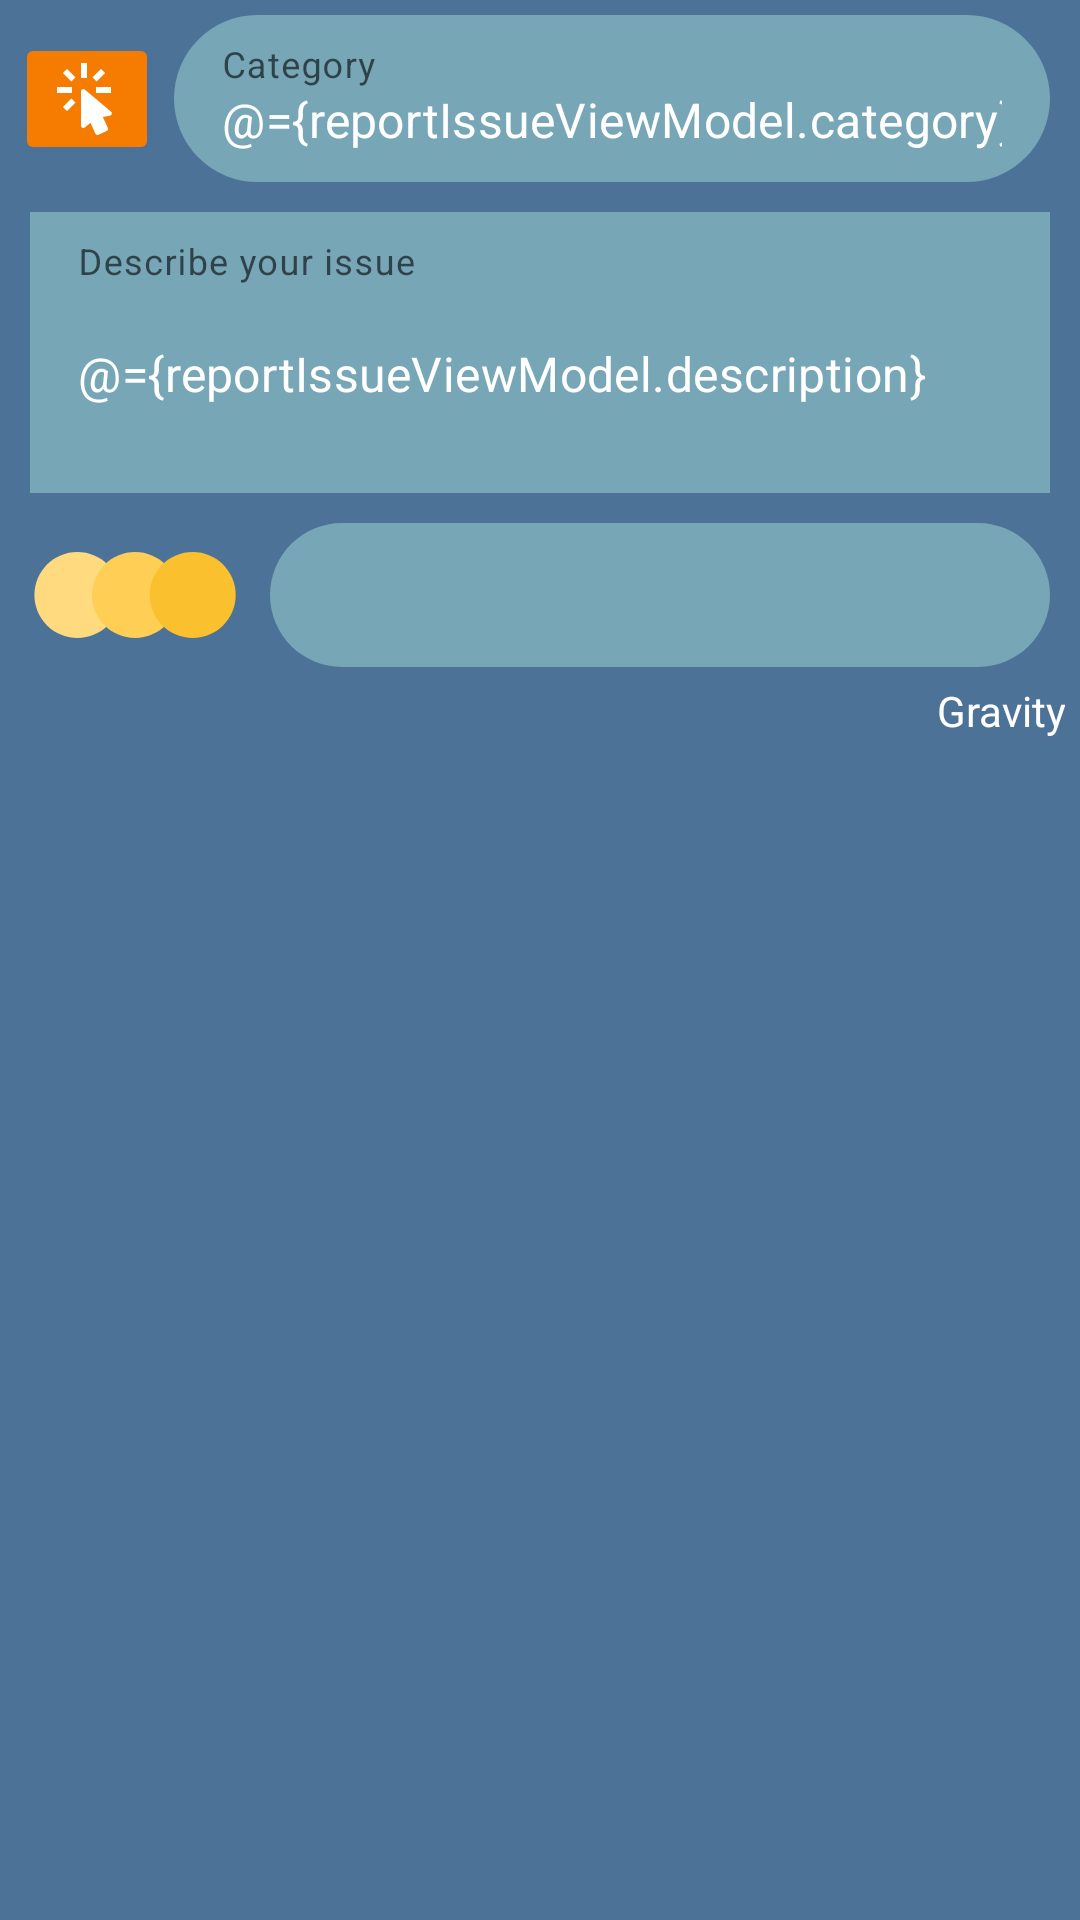

Icon bounding boxes for this 1080 x 1920 phone screenshot, format (x1, y1, x2, y2):
Circles gravity icon: (34, 552, 236, 638)
